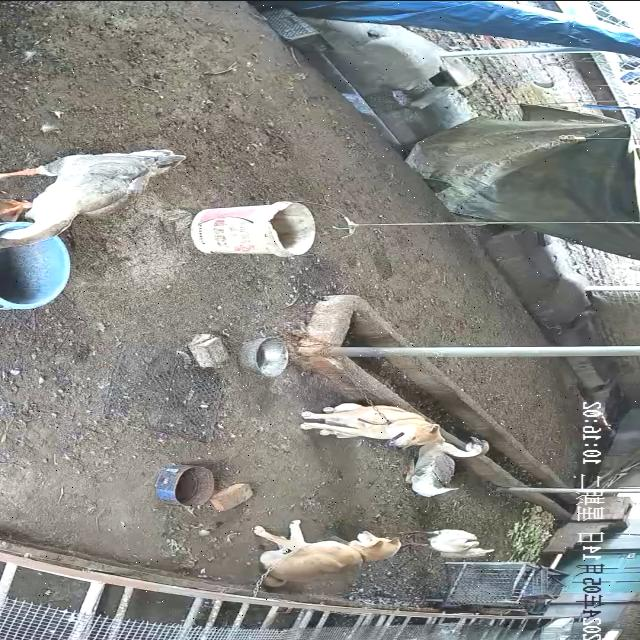dog: (254, 520, 404, 590), (300, 403, 446, 449)
